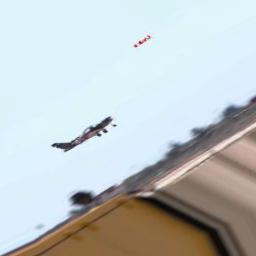Airplane: (49, 115, 118, 156)
